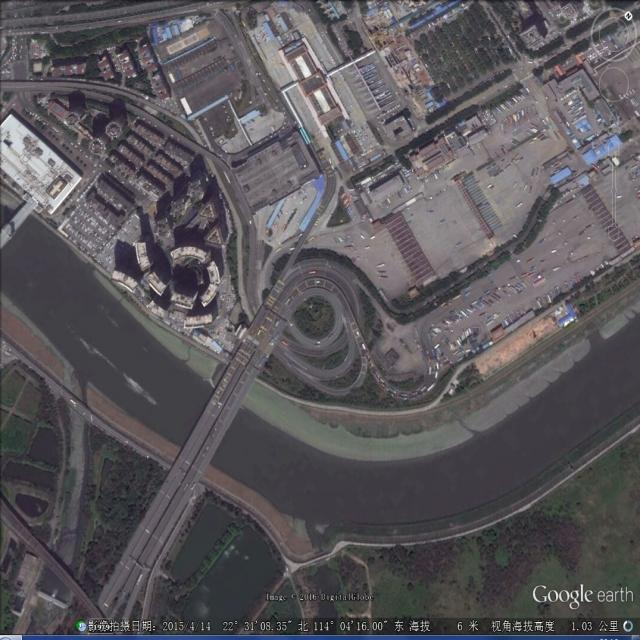overpass: (237, 234, 444, 407)
